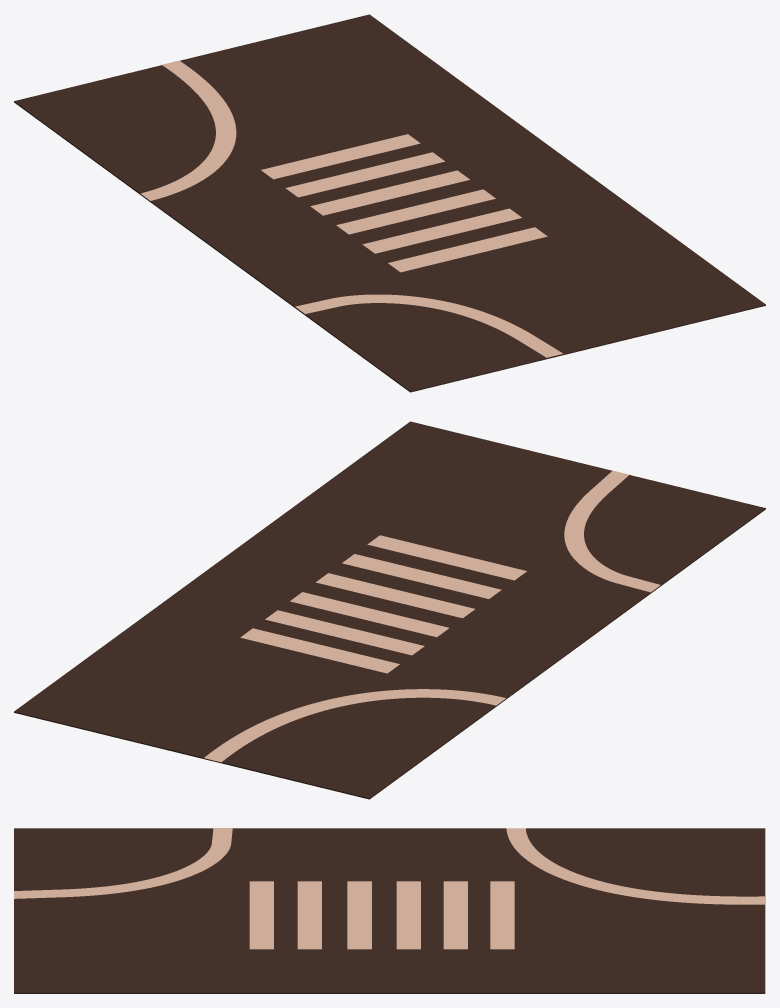
The model's file is stage.fbx.
3 renders of one model, top to bottom at view 1: azimuth 30°, elevation 25°; view 2: azimuth 150°, elevation 25°; view 3: azimuth 270°, elevation 25°, orthographic. The views are drawn at different scales.
Visible parts, largest first — view 1: road.004, 白線.008, 白線.010, 白線.001, 白線.002, 白線.003, 白線.005, 白線, 白線.004; view 2: road.004, 白線.008, 白線.010, 白線, 白線.002, 白線.005, 白線.003, 白線.004, 白線.001; view 3: road.004, 白線.008, 白線.010, 白線.002, 白線.005, 白線, 白線.001, 白線.003, 白線.004.
Part boxes in pixels (x1,y1,x2,y2): road.004: (14,14,765,392); 白線.008: (141,60,236,200); 白線.010: (295,294,563,357); 白線.001: (362,208,521,253); 白線.002: (336,189,495,234); 白線.003: (310,170,469,215); 白線.005: (261,134,420,179); 白線: (388,227,547,272); 白線.004: (285,152,444,197); road.004: (14,421,765,799); 白線.008: (204,689,505,762); 白線.010: (564,470,660,592); 白線: (367,535,526,580); 白線.002: (316,573,474,618); 白線.005: (240,628,399,673); 白線.003: (290,592,448,637); 白線.004: (265,610,424,655); 白線.001: (342,554,501,598); road.004: (14,828,765,993); 白線.008: (506,828,765,904); 白線.010: (14,828,232,898); 白線.002: (347,881,371,949); 白線.005: (490,881,514,949); 白線: (249,881,273,949); 白線.001: (297,881,321,949); 白線.003: (396,881,420,949); 白線.004: (443,881,467,949).
Bounding box in the file's own units: 1701 × 6.7 × 3286.
